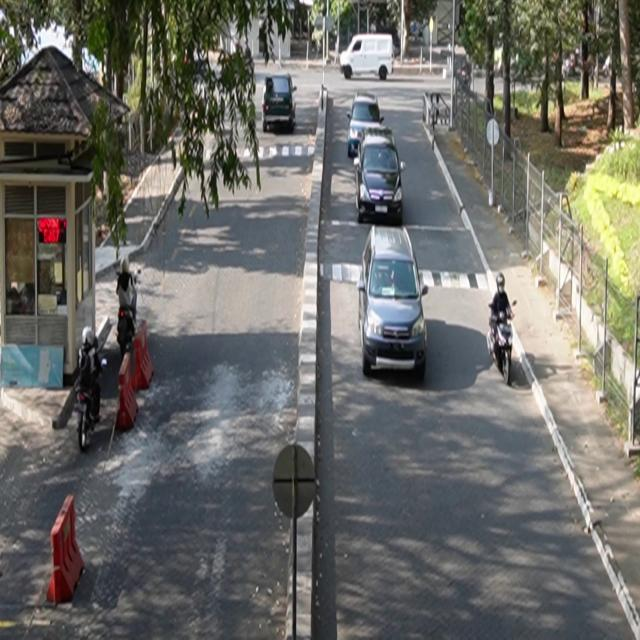car: (358, 225, 429, 379), (354, 135, 407, 225), (347, 93, 385, 159), (263, 75, 298, 133)
